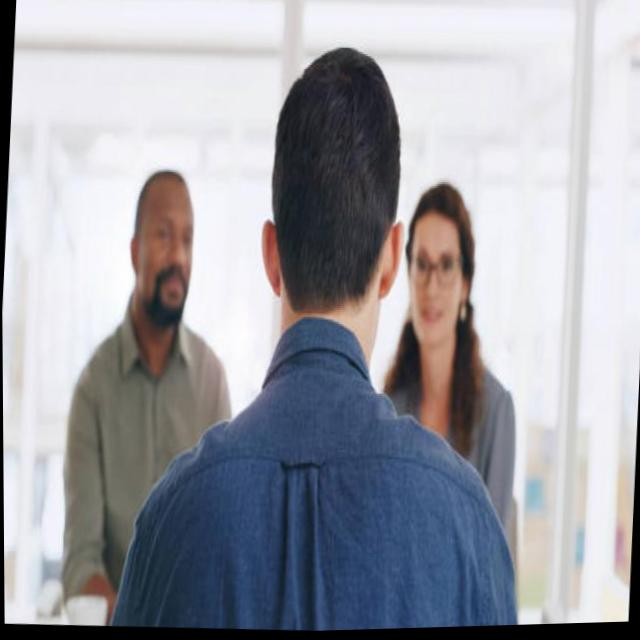no helmet: (247, 37, 415, 390)
